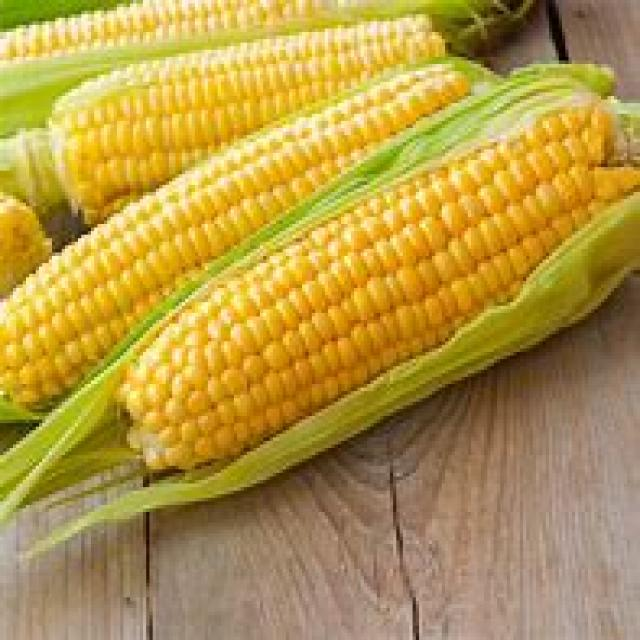Corn ear: (129, 218, 409, 476), (399, 99, 640, 337), (0, 200, 175, 416), (194, 23, 432, 128), (178, 115, 414, 219), (53, 57, 188, 191)
